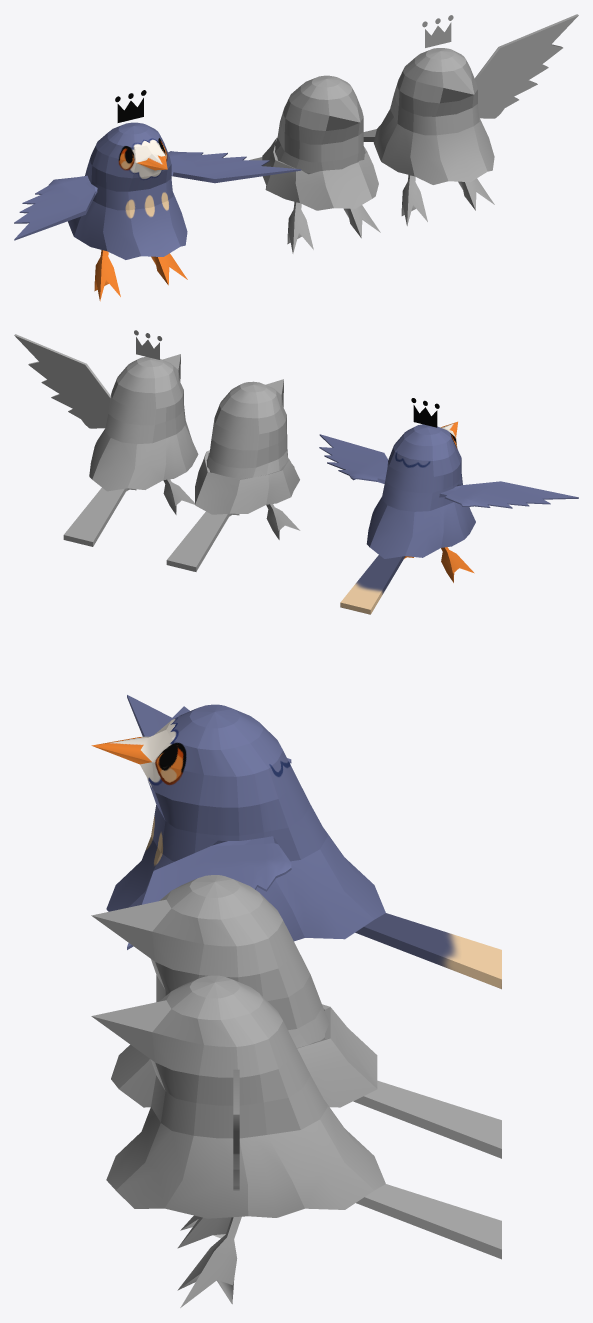
The model's file is mukudoriChan1.fbx.
3 renders of one model, top to bottom at view 1: azimuth 30°, elevation 25°; view 2: azimuth 150°, elevation 25°; view 3: azimuth 270°, elevation 25°, orthographic. The views are drawn at different scales.
Parts seen in each view (by area): view 1: pCube2, Bird_pSphere1, pSphere1, pCube1, pCylinder1, polySurface1 (×3), pPlane1 (×2); view 2: pCube2, Bird_pSphere1, pSphere1, pCube1, pCylinder1, polySurface1 (×3); view 3: Bird_pSphere1, pCube2, pSphere1, pCylinder1, polySurface1, pCube1.
Boxes of the visible parts, box(x1,y1,x2,y2) form: pCube2: box(14, 122, 301, 259); Bird_pSphere1: box(363, 48, 494, 184); pSphere1: box(249, 75, 365, 174); pCube1: box(474, 14, 578, 118); pCylinder1: box(262, 137, 378, 210); polySurface1 (×3): box(94, 175, 494, 301); pPlane1 (×2): box(117, 22, 451, 122); pCube2: box(319, 421, 578, 614); Bird_pSphere1: box(63, 354, 198, 546); pSphere1: box(166, 379, 288, 571); pCube1: box(14, 334, 110, 428); pCylinder1: box(195, 450, 299, 514); polySurface1 (×3): box(126, 479, 474, 582); Bird_pSphere1: box(91, 975, 501, 1259); pCube2: box(91, 695, 501, 989); pSphere1: box(91, 875, 501, 1158); pCylinder1: box(111, 1004, 377, 1107); polySurface1: box(177, 1215, 241, 1307); pCube1: box(233, 1069, 239, 1190).
Bounding box in the file's own units: 14.61 × 4.51 × 4.84.
